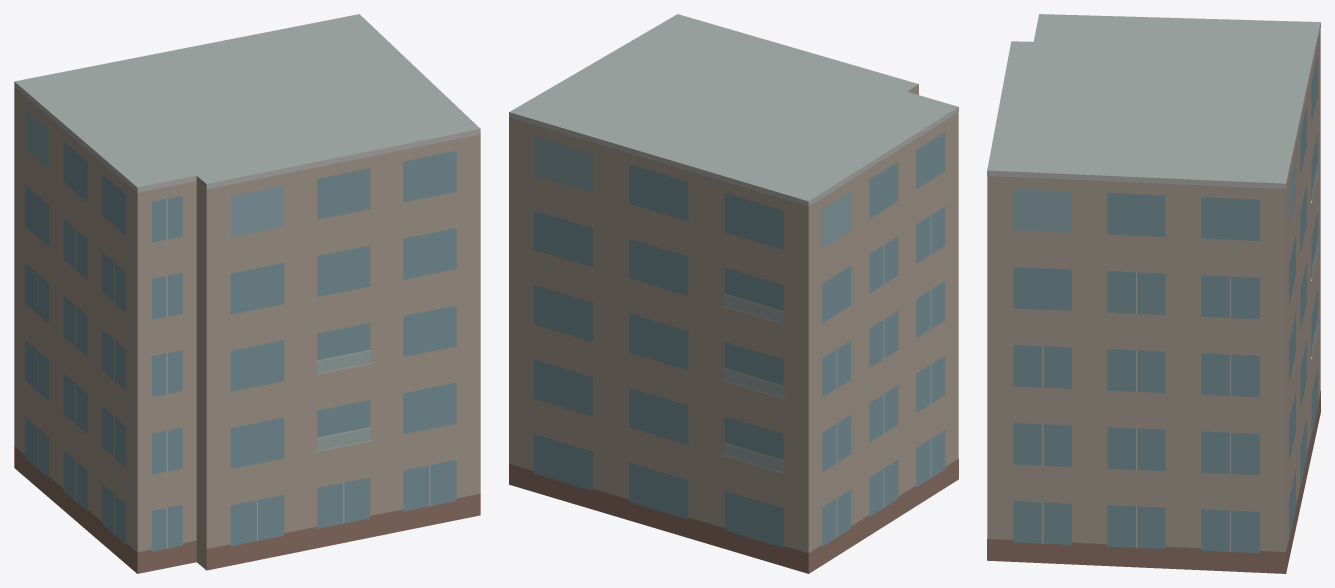
The model's file is survey-upis-32837651.glb.
3 views of the same model, side by side, from view 1: azimuth 30°, elevation 25°; view 2: azimuth 150°, elevation 25°; view 3: azimuth 270°, elevation 25° (orthographic). The views are drawn at different scales.
Parts seen in each view (by area): view 1: survey-upis-32837651.tmp; view 2: survey-upis-32837651.tmp; view 3: survey-upis-32837651.tmp.
Boxes of the visible parts, left/top/right/bottom form: survey-upis-32837651.tmp: left=14, top=14, right=480, bottom=573; survey-upis-32837651.tmp: left=509, top=14, right=958, bottom=573; survey-upis-32837651.tmp: left=987, top=14, right=1320, bottom=573.
Bounding box in the file's own units: 16.33 × 17.5 × 13.57.
